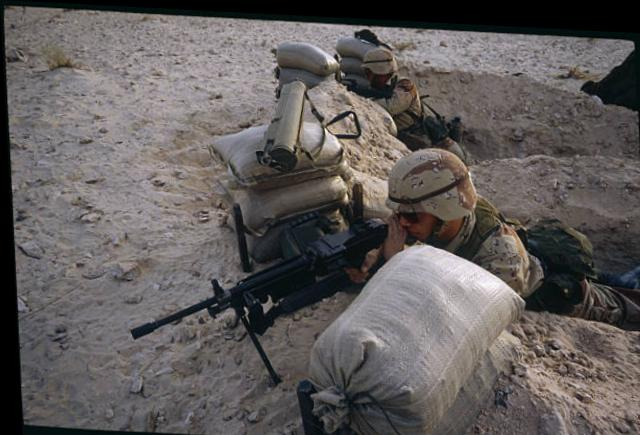other: (361, 133, 523, 253), (280, 22, 427, 138)
